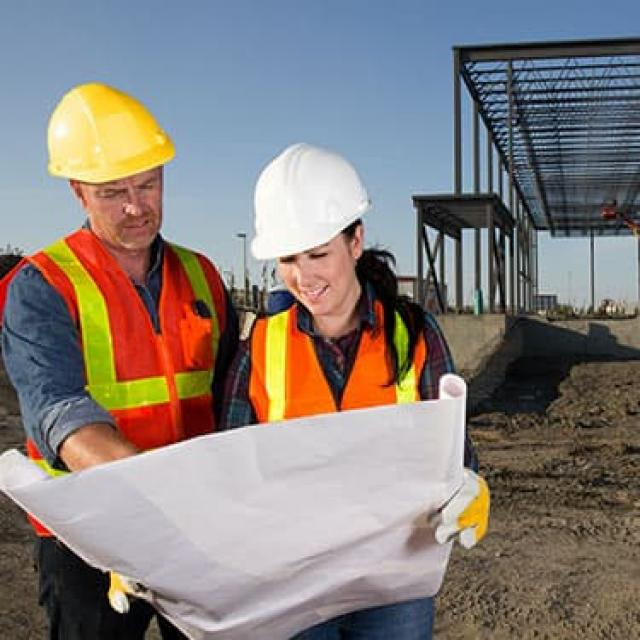Reflective-Jacket: (11, 228, 226, 456), (249, 292, 430, 424)
Safety-Helmet: (244, 137, 377, 260), (39, 77, 181, 189)
